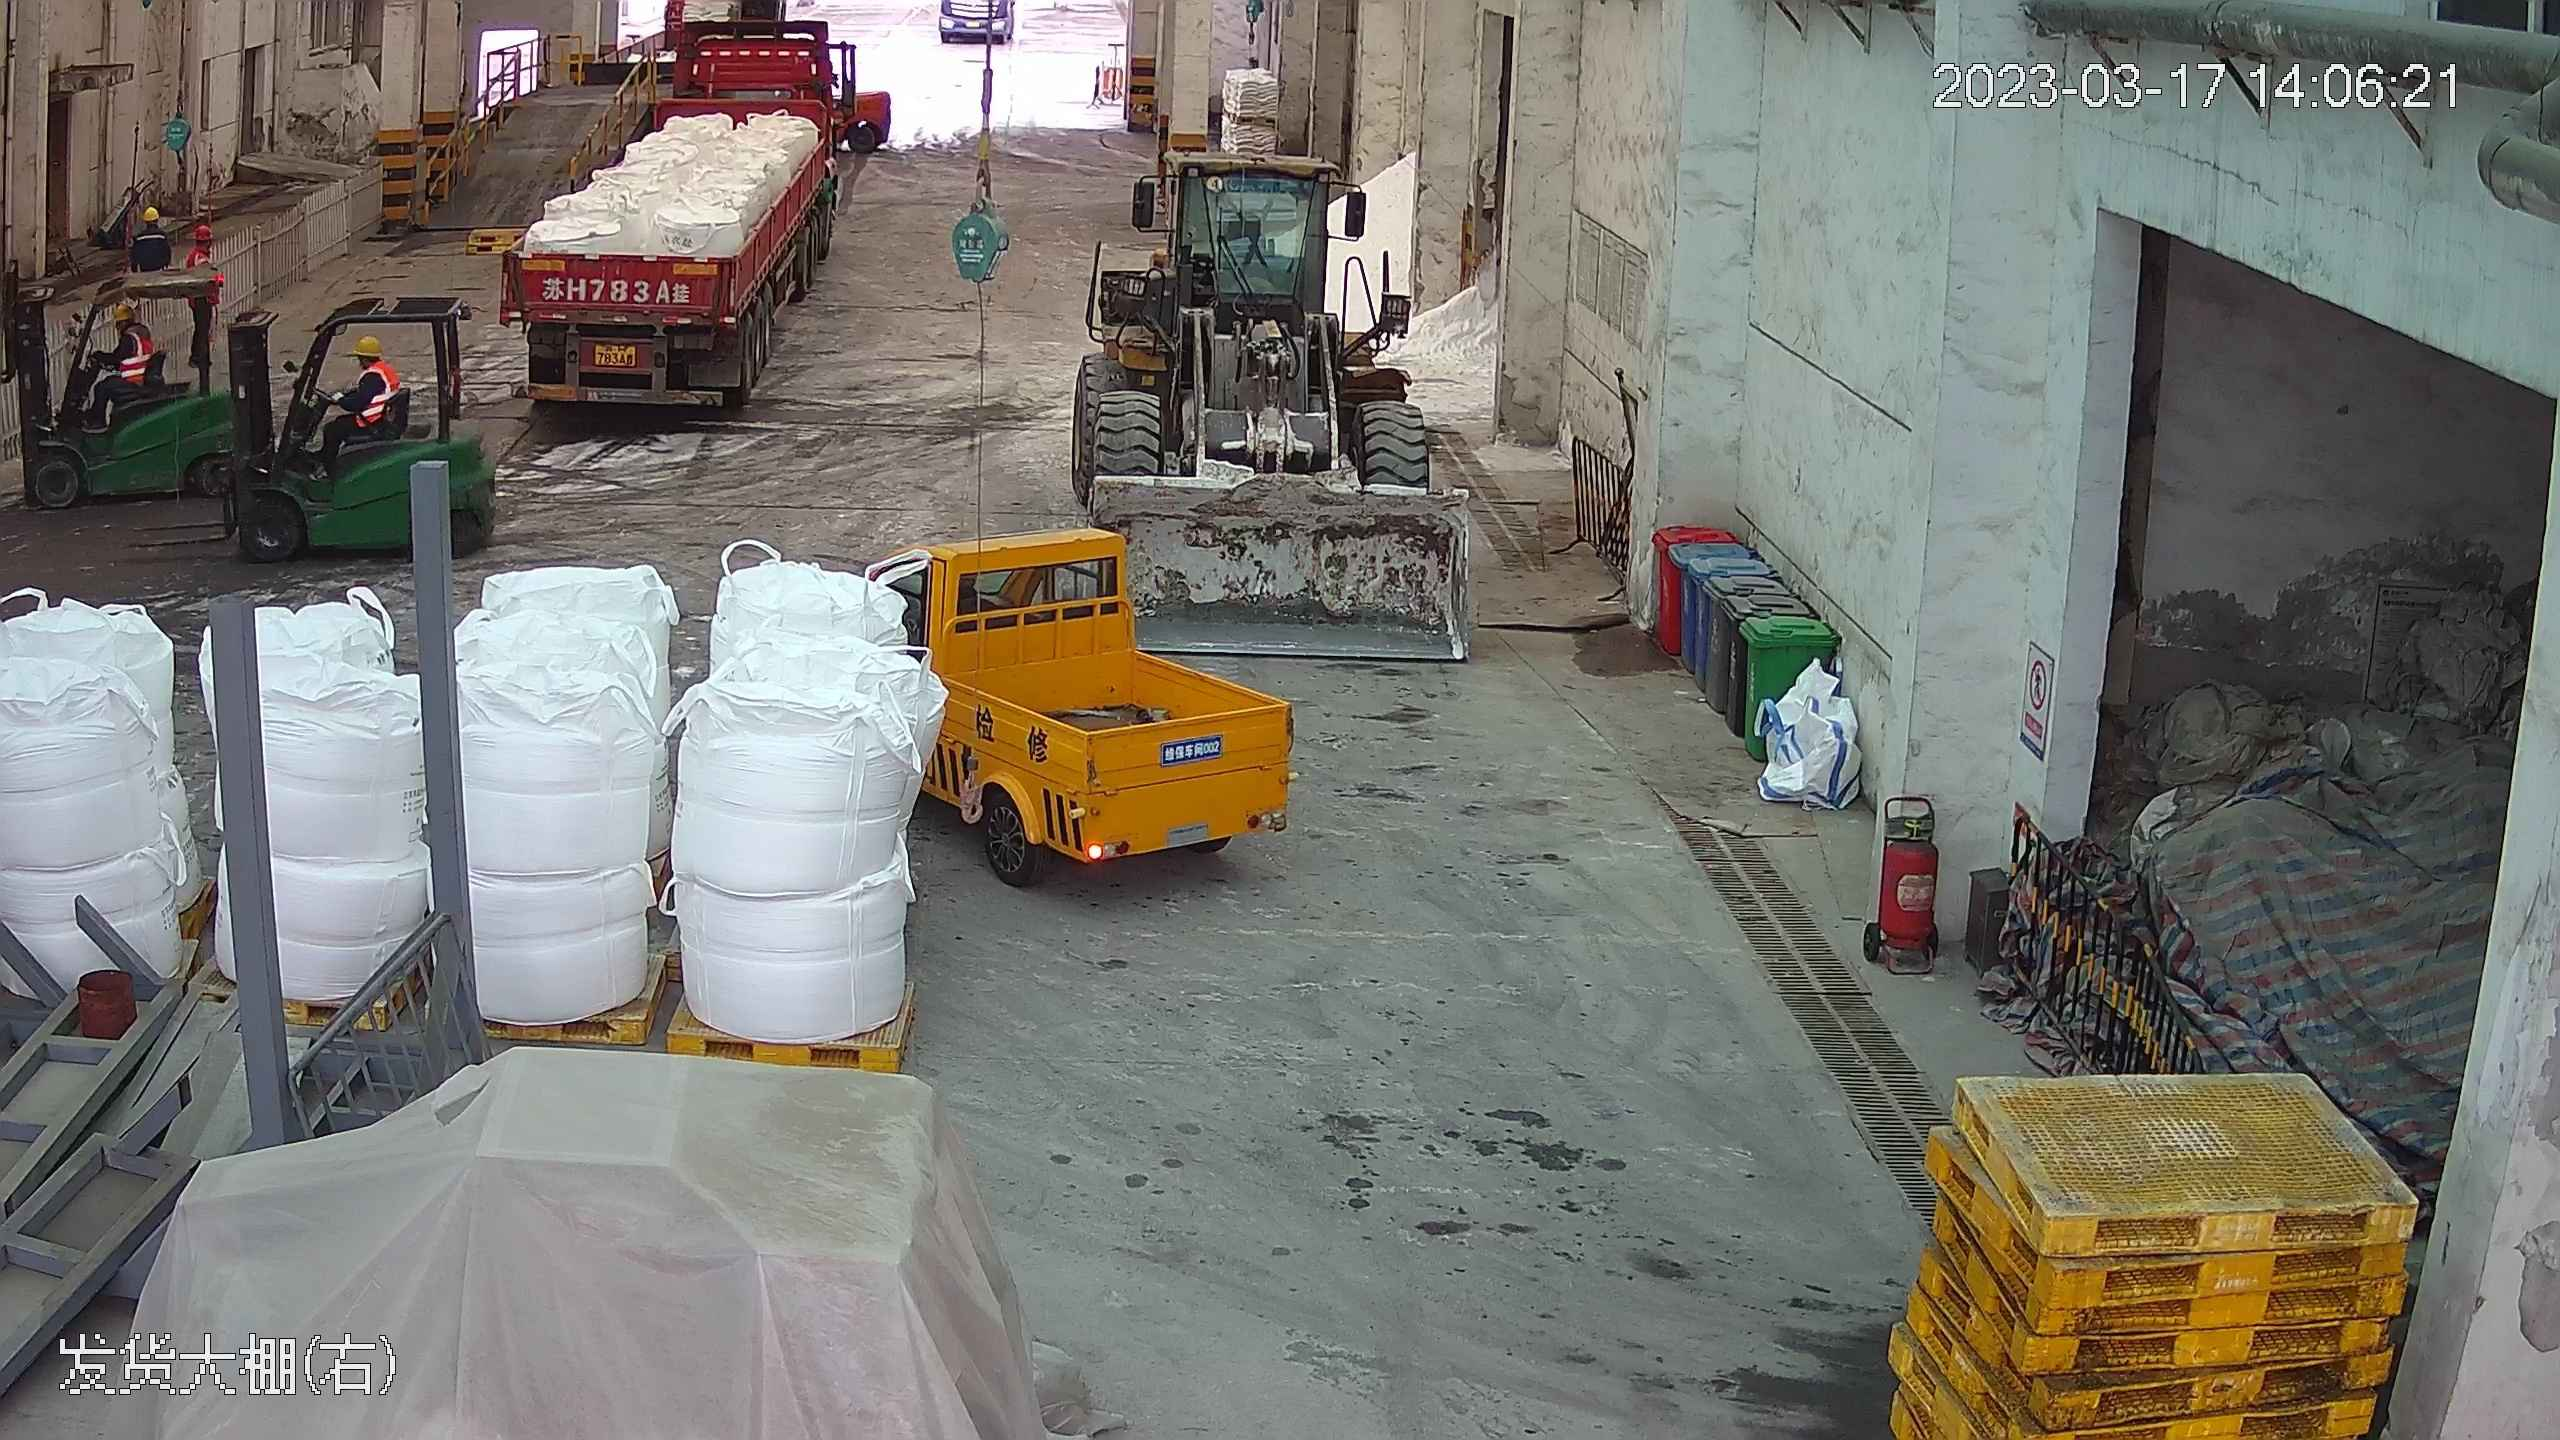head: (344, 331, 394, 394), (107, 298, 150, 349), (133, 205, 171, 249), (186, 224, 218, 271)
helmet: (348, 331, 381, 356), (110, 297, 135, 318), (138, 204, 162, 224), (190, 223, 215, 241)
people: (298, 329, 395, 468), (77, 301, 156, 423), (186, 221, 225, 367), (128, 201, 168, 279)
truck: (484, 9, 855, 419)
